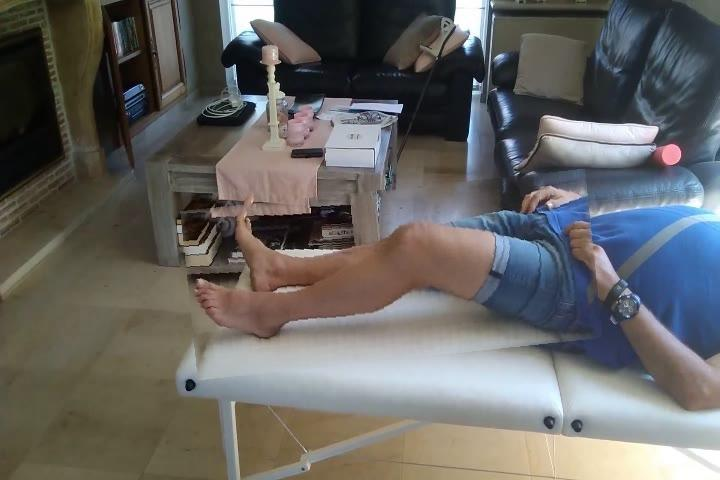lower_body: (185, 181, 600, 371)
